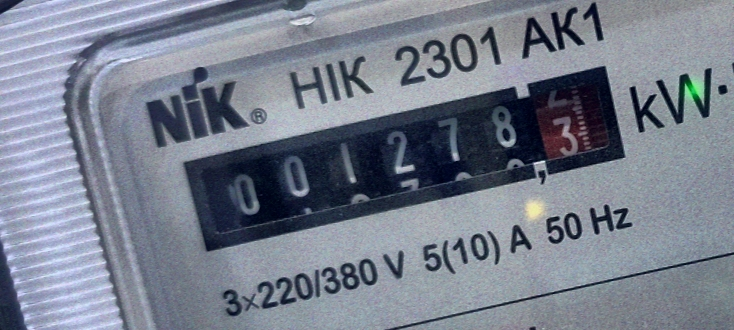0: (229, 167, 263, 218), (278, 151, 311, 201)
1: (334, 137, 360, 186)
2: (383, 127, 416, 177), (542, 86, 568, 109)
3: (548, 112, 581, 159)
7: (434, 115, 463, 164)
8: (488, 102, 518, 150)
screen: (162, 50, 647, 266)
